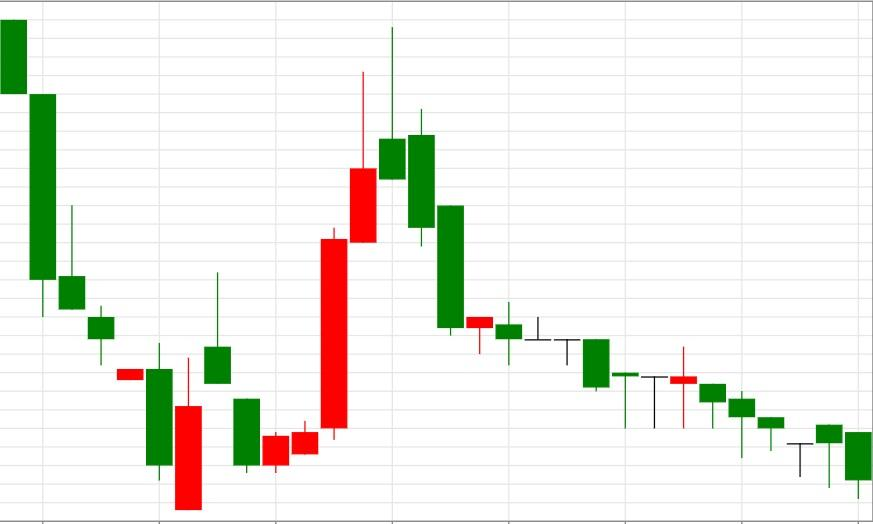shooting_star_fall: (262, 27, 407, 474)
